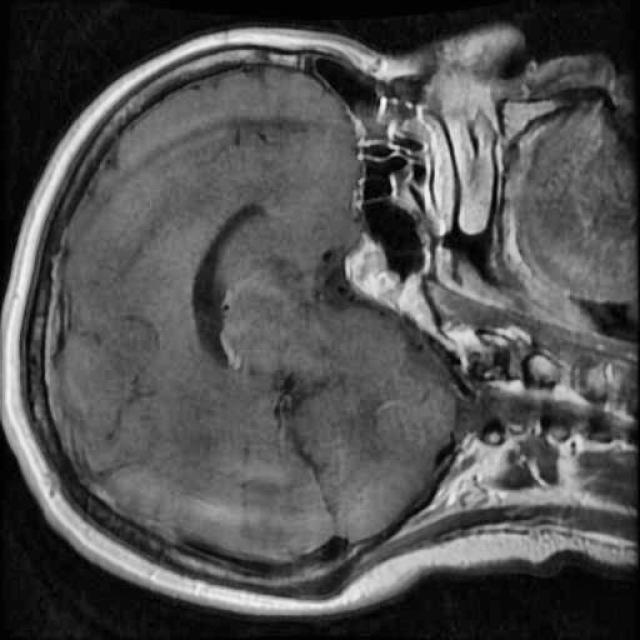Tumor: (335, 228, 409, 308)
